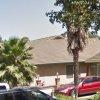Car: (52, 69, 100, 100)
